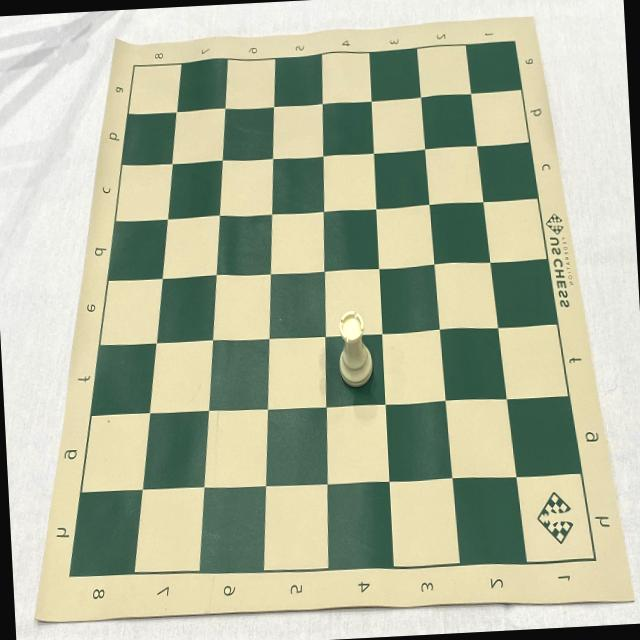white-rook: (336, 309, 374, 390)
